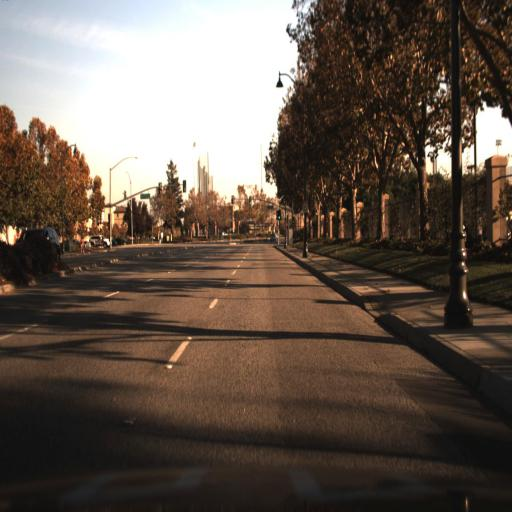car: (15, 226, 61, 266), (87, 231, 112, 251)
trafficLight-Green: (274, 209, 283, 226), (248, 192, 254, 208)
trafficLight-RedLeft: (229, 192, 236, 208)
